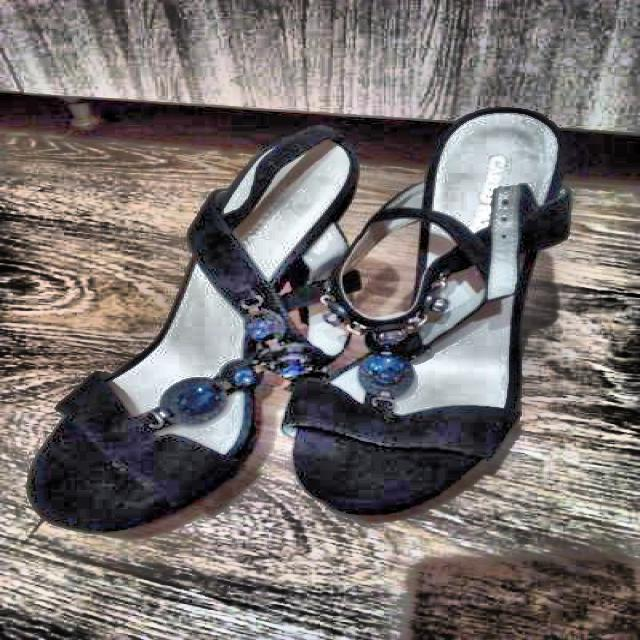shoes: (27, 104, 573, 534)
